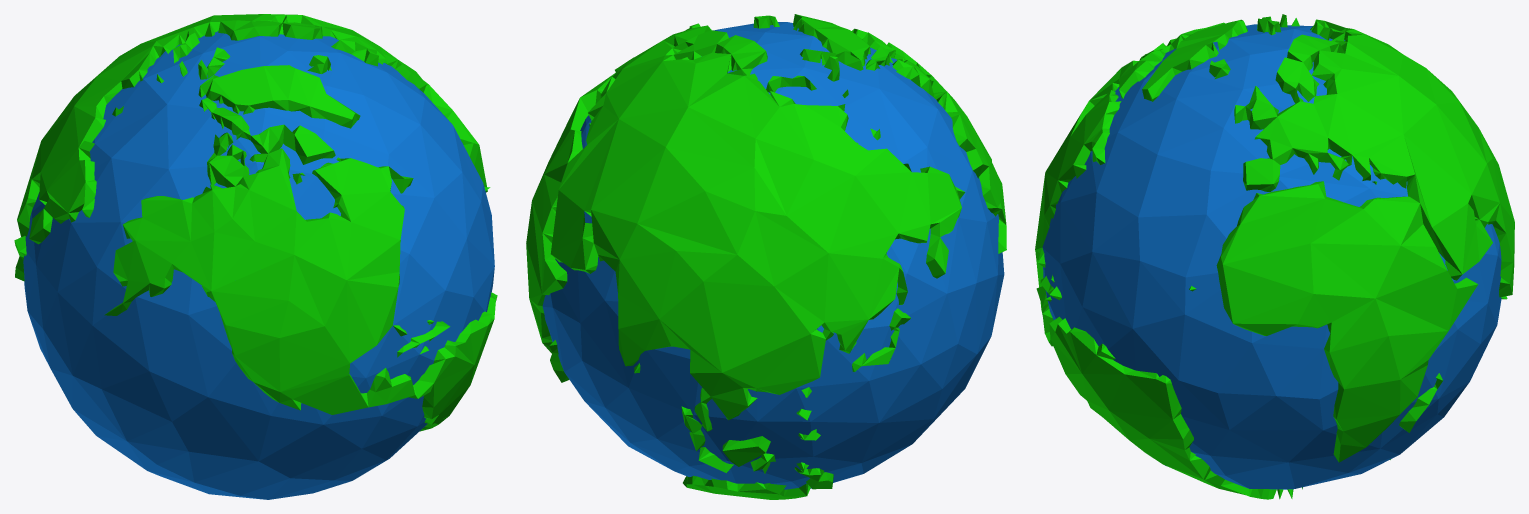
Rendered from low_poly_earth.fbx.
The picture shows the model from 3 angles, left to right: view 1: azimuth 30°, elevation 25°; view 2: azimuth 150°, elevation 25°; view 3: azimuth 270°, elevation 25°; orthographic projection.
Parts seen in each view (by area): view 1: low_poly_earth; view 2: low_poly_earth; view 3: low_poly_earth.
Boxes of the visible parts, <box> form: low_poly_earth: <box>14,14,497,499</box>; low_poly_earth: <box>526,14,1006,499</box>; low_poly_earth: <box>1035,14,1514,499</box>.
Size of the model in its own units: 195 by 201 by 199.
